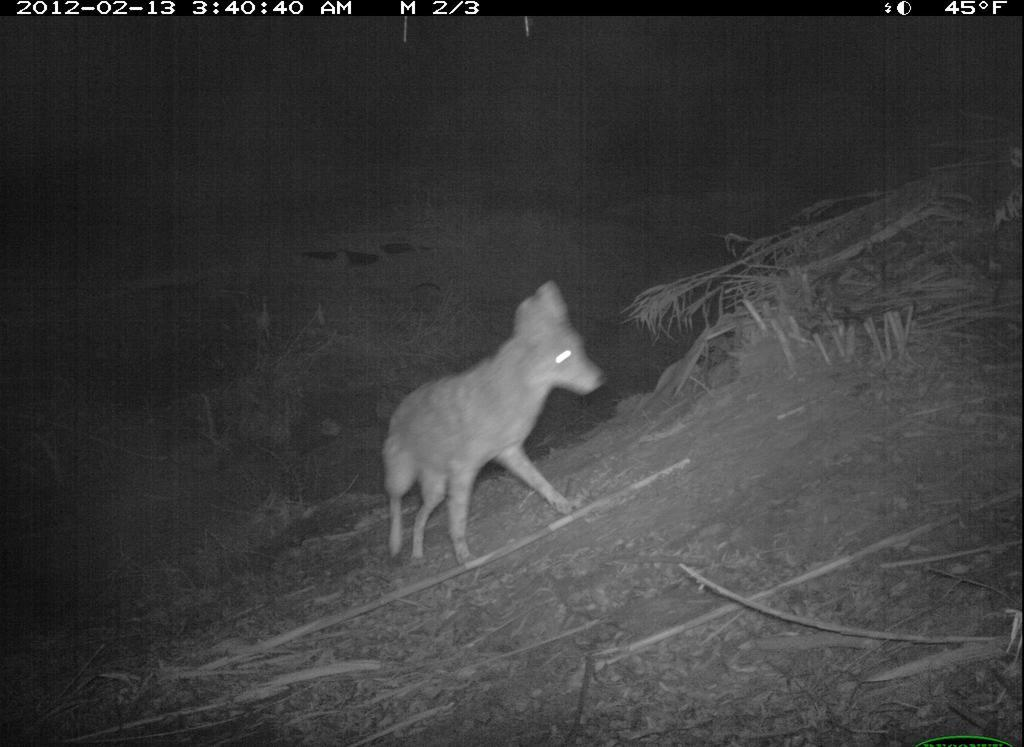coyote: (373, 271, 606, 574)
